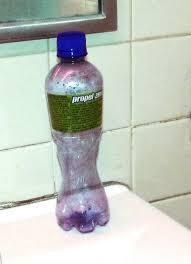Plastic: (43, 27, 113, 237)
